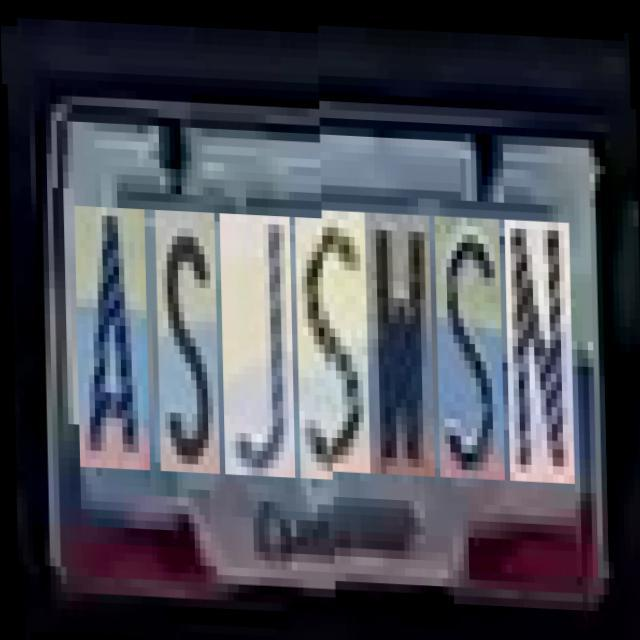A: (73, 197, 148, 460)
J: (218, 202, 293, 466)
N: (503, 213, 572, 478)
S: (294, 206, 368, 470), (433, 211, 502, 475), (154, 200, 218, 463)
W: (363, 208, 432, 472)
